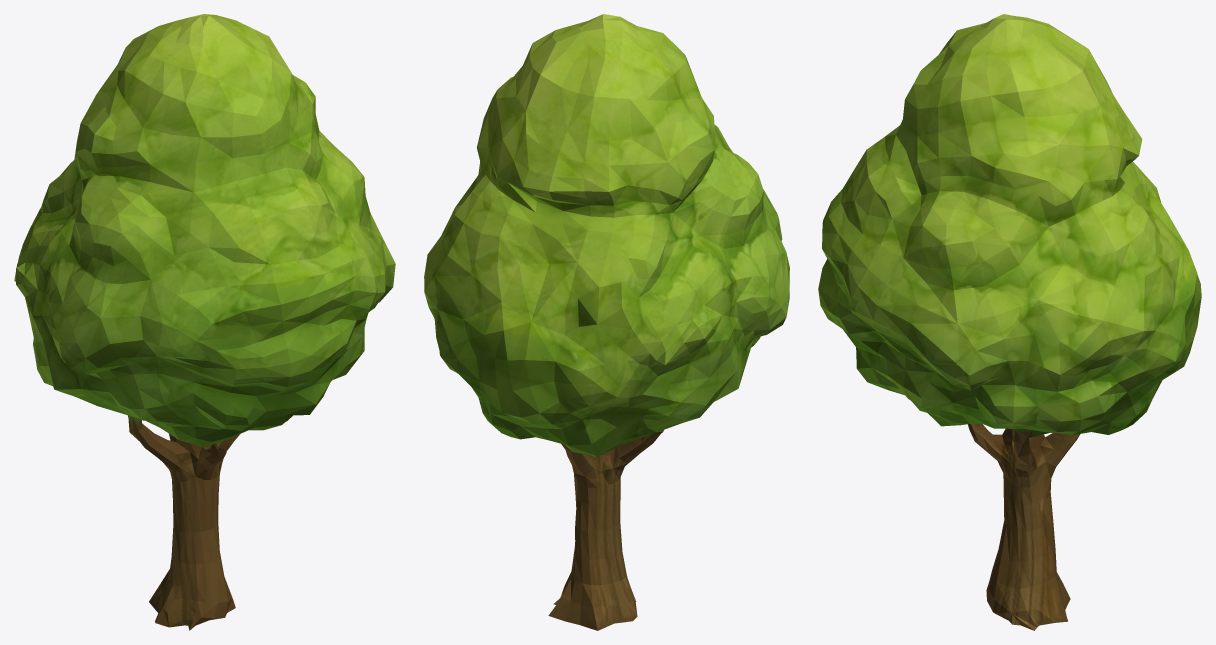
File: Tree2.glb
3 views of the same model, side by side, from view 1: azimuth 30°, elevation 25°; view 2: azimuth 150°, elevation 25°; view 3: azimuth 270°, elevation 25° (orthographic). The views are drawn at different scales.
Visible parts, largest first — view 1: tripo_node_56f3d3fc-41d4-479d-a2f2-a57e836636cc; view 2: tripo_node_56f3d3fc-41d4-479d-a2f2-a57e836636cc; view 3: tripo_node_56f3d3fc-41d4-479d-a2f2-a57e836636cc.
Part boxes in pixels (<box>): tripo_node_56f3d3fc-41d4-479d-a2f2-a57e836636cc: <box>14,14,395,630</box>; tripo_node_56f3d3fc-41d4-479d-a2f2-a57e836636cc: <box>424,14,789,630</box>; tripo_node_56f3d3fc-41d4-479d-a2f2-a57e836636cc: <box>818,14,1201,630</box>.
Bounding box in the file's own units: 0.1952 × 0.342 × 0.2.
Materials: 1 (1 with a texture image).
